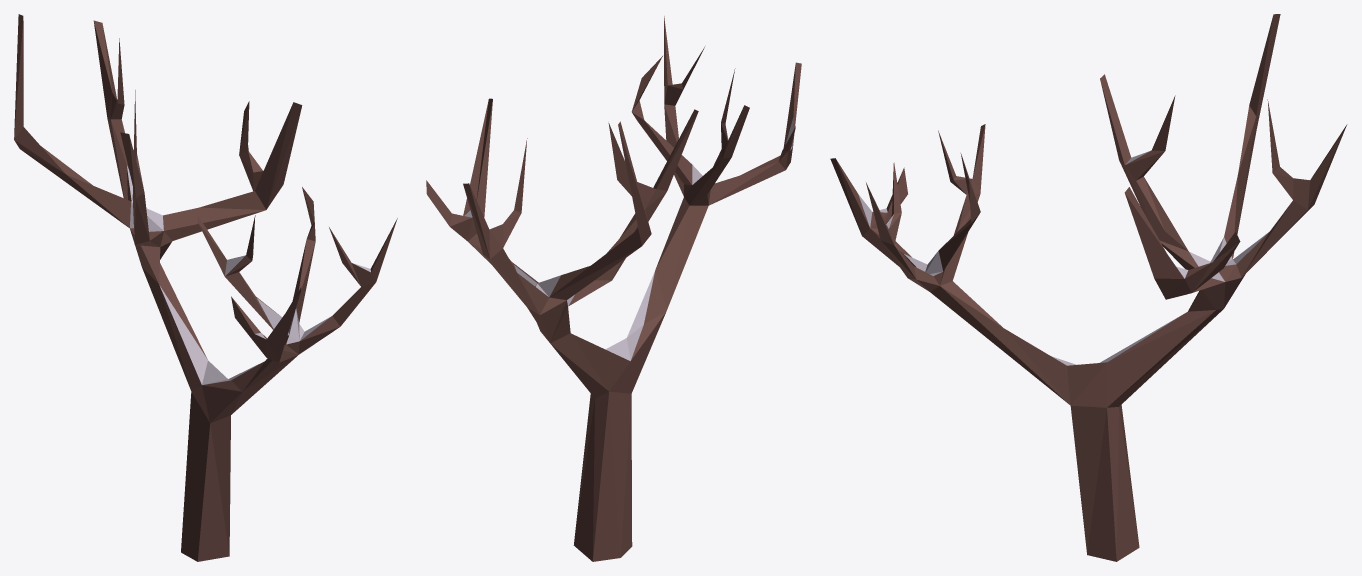
Rendered from CommonTree_Dead_Snow_1.lod3.glb.
3 views of the same model, side by side, from view 1: azimuth 30°, elevation 25°; view 2: azimuth 150°, elevation 25°; view 3: azimuth 270°, elevation 25° (orthographic). The views are drawn at different scales.
Parts seen in each view (by area): view 1: CommonTree_Dead_Snow_1; view 2: CommonTree_Dead_Snow_1; view 3: CommonTree_Dead_Snow_1.
Boxes of the visible parts, box(x1,y1,x2,y2) form: CommonTree_Dead_Snow_1: box(14, 14, 397, 561); CommonTree_Dead_Snow_1: box(426, 16, 801, 561); CommonTree_Dead_Snow_1: box(830, 14, 1347, 561).
Bounding box in the file's own units: 1.05 × 2.2 × 2.12.
